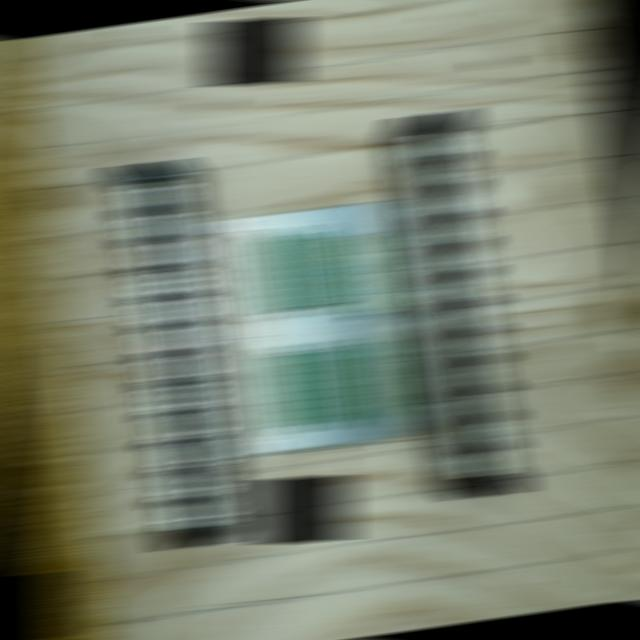Flathead_Block: (399, 108, 522, 501)
Phillips_Block: (112, 158, 232, 552)
Terminal_1: (344, 233, 391, 318), (359, 337, 404, 422)
Terminal_2: (271, 230, 316, 311), (311, 345, 355, 426), (287, 348, 331, 429), (263, 350, 307, 431), (295, 228, 338, 309)
